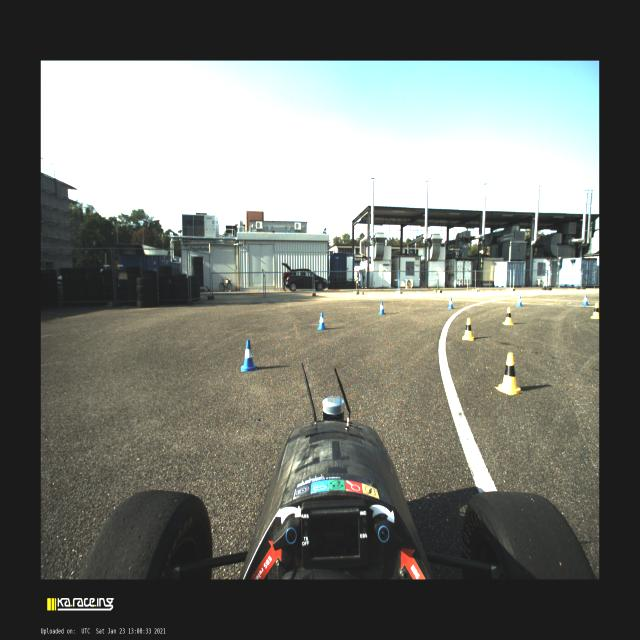blue_cone: (240, 340, 256, 371), (318, 312, 326, 330), (581, 294, 589, 306), (378, 302, 384, 314), (516, 296, 522, 306), (448, 298, 453, 308)
yellow_cone: (496, 352, 522, 394), (462, 318, 474, 340), (503, 307, 514, 325), (591, 302, 599, 318)
